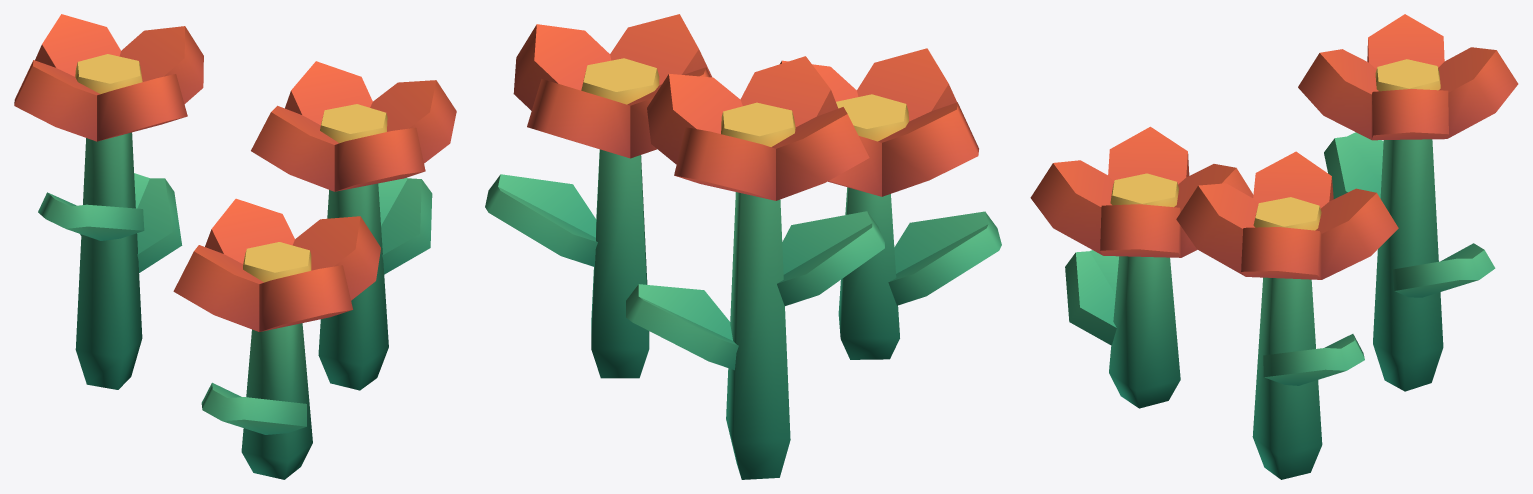
File: flowers-tall.glb
The picture shows the model from 3 angles, left to right: view 1: azimuth 30°, elevation 25°; view 2: azimuth 150°, elevation 25°; view 3: azimuth 270°, elevation 25°; orthographic projection. The views are drawn at different scales.
Parts seen in each view (by area): view 1: flowers-tall; view 2: flowers-tall; view 3: flowers-tall.
Boxes of the visible parts, box(x1,y1,x2,y2) form: flowers-tall: box(14, 14, 456, 479); flowers-tall: box(485, 14, 1001, 479); flowers-tall: box(1030, 14, 1518, 479).
Bounding box in the file's own units: 0.7097 × 0.6 × 0.8036.
Materials: 1 (1 with a texture image).
